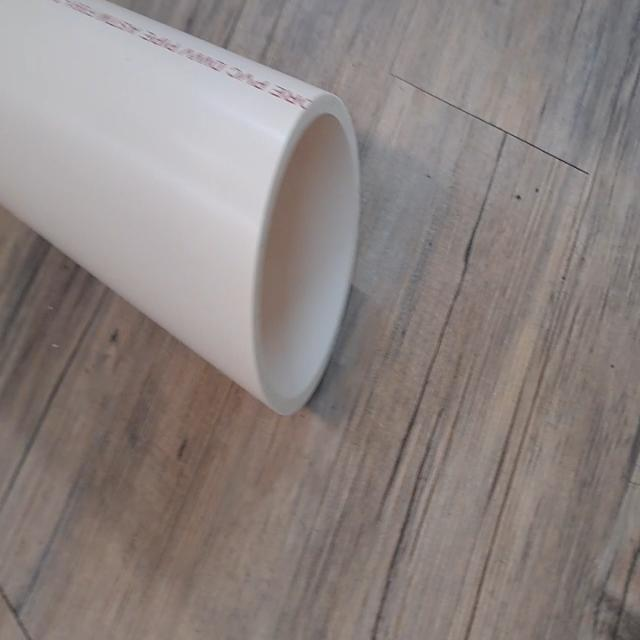CORAL: (0, 0, 381, 437)
